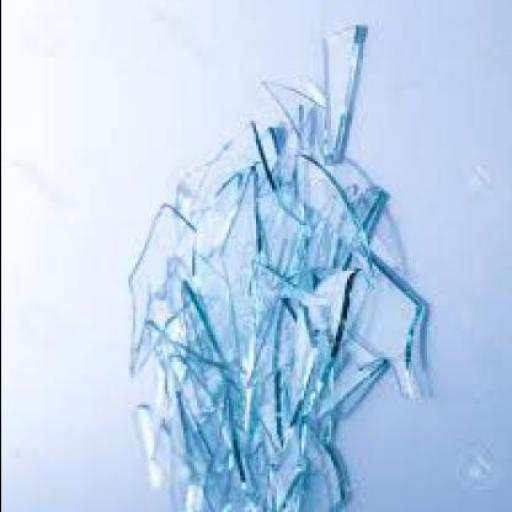glass: (123, 205, 198, 380), (285, 164, 366, 295), (160, 127, 272, 221), (343, 264, 415, 406), (200, 432, 302, 510), (298, 276, 352, 407), (266, 423, 346, 511), (323, 160, 385, 272), (309, 339, 380, 430), (214, 173, 257, 323), (316, 28, 360, 168), (257, 86, 335, 164), (176, 284, 218, 412), (243, 310, 278, 451), (189, 260, 237, 362), (161, 402, 203, 510), (255, 189, 307, 273), (278, 309, 312, 437), (272, 94, 310, 184), (129, 358, 169, 441), (239, 312, 282, 387), (252, 264, 290, 342), (127, 402, 157, 496), (221, 346, 243, 453), (253, 123, 280, 196), (214, 406, 234, 486), (310, 412, 332, 446)
